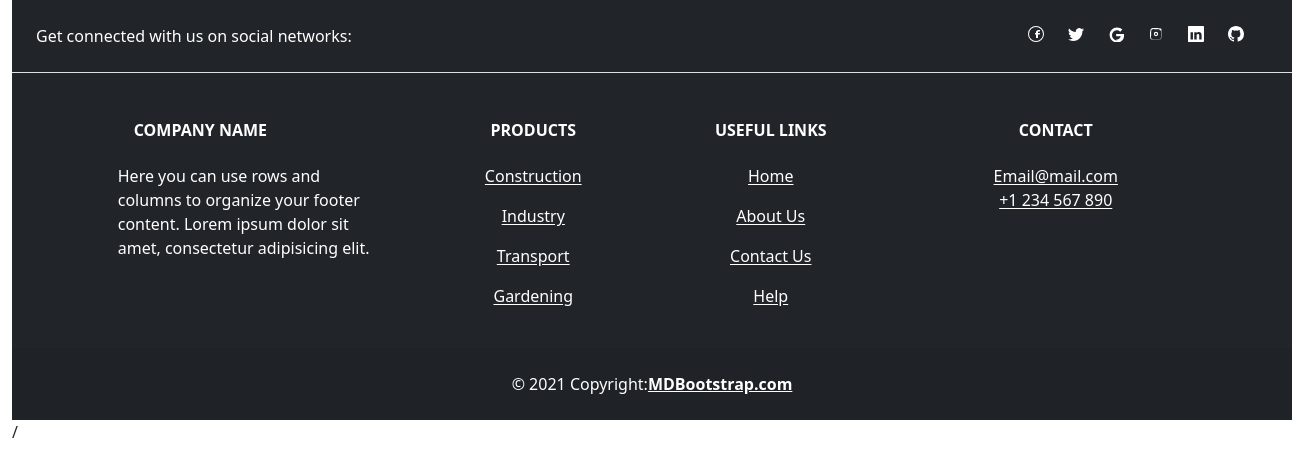
it: navigation links work correctly
Expected: the heading with test id "footer-products-heading" reads "Products", [490,119,576,141]
Click the link with test id "footer-about-link" at x=771, y=216, box [736,205,805,227]
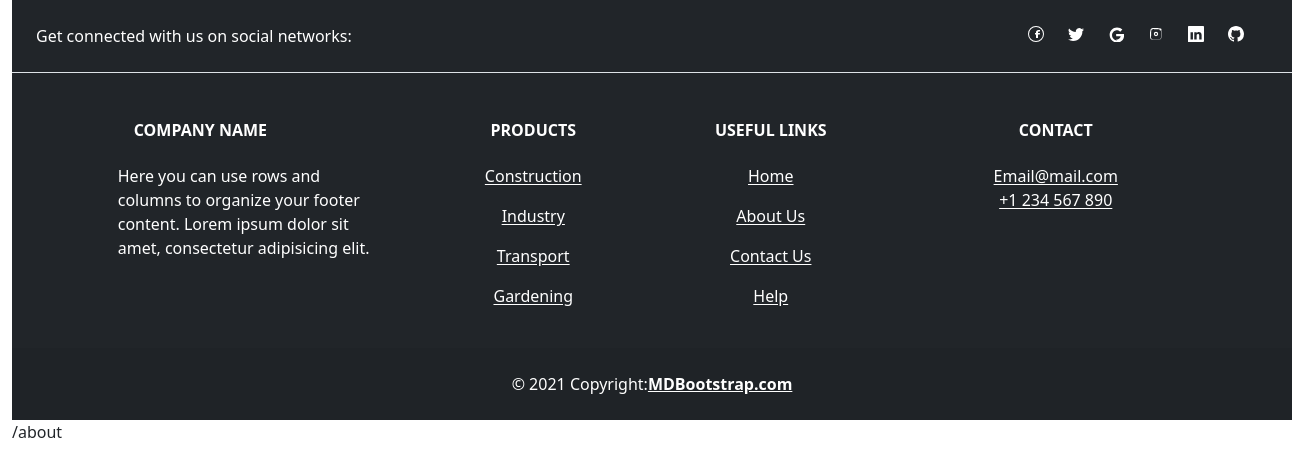
Now the text with test id "location" reads "/about", box [12,421,62,443]
